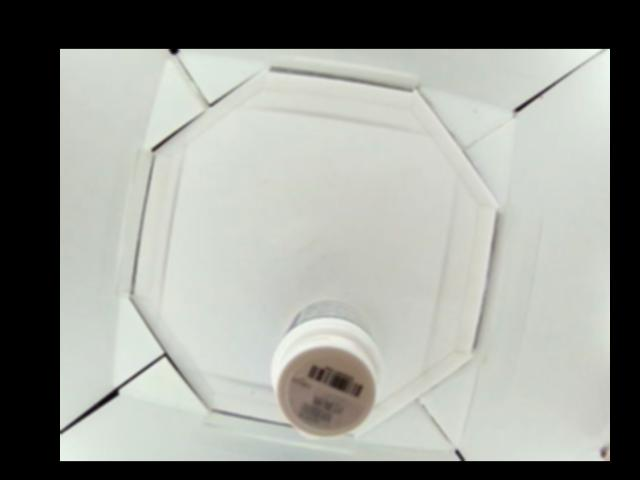Bottle: (269, 300, 379, 438)
